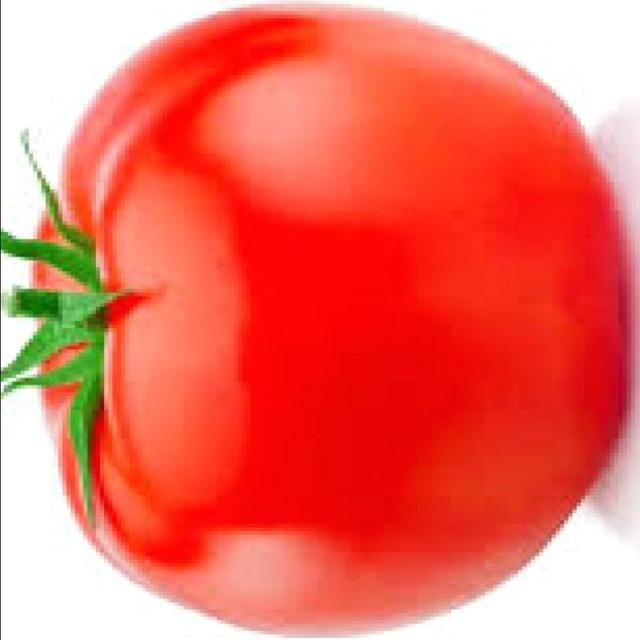Healthy Fruit: (30, 0, 421, 424)
